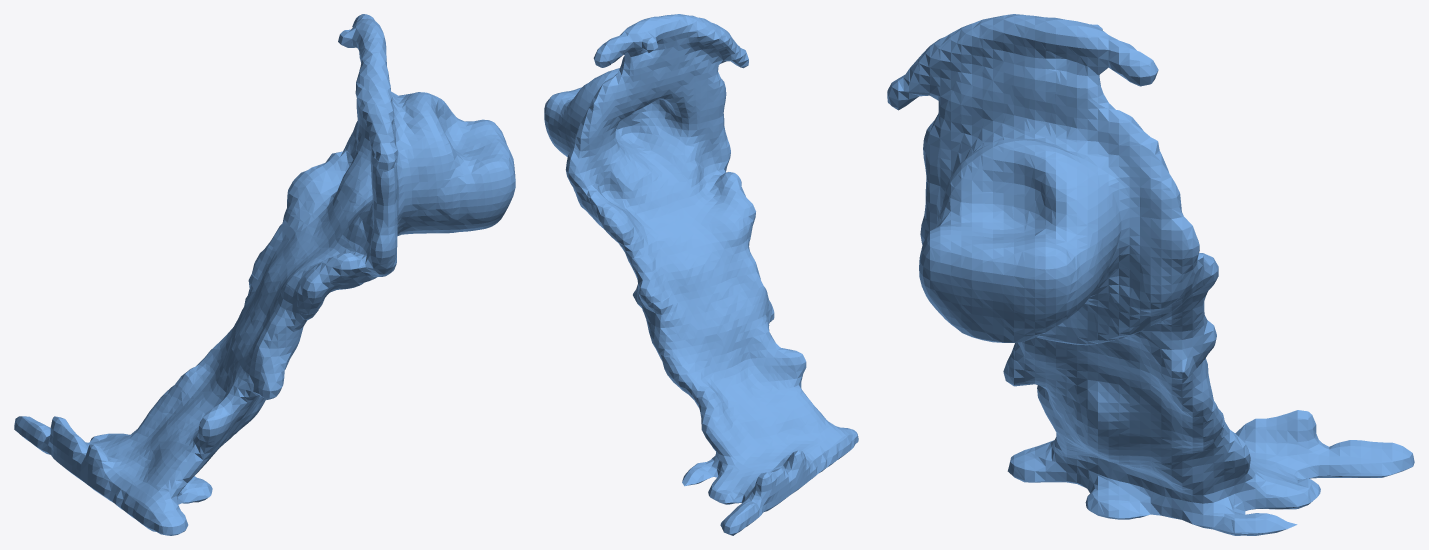
Rendered from water_0035.glb.
3 renders of one model, left to right at view 1: azimuth 30°, elevation 25°; view 2: azimuth 150°, elevation 25°; view 3: azimuth 270°, elevation 25°, orthographic. The views are drawn at different scales.
Visible parts, largest first — view 1: Water_0035; view 2: Water_0035; view 3: Water_0035.
Boxes of the visible parts, x1,y1,x2,y2 form: Water_0035: [14, 14, 515, 535]; Water_0035: [544, 14, 858, 535]; Water_0035: [887, 14, 1414, 535].
Size of the model in its own units: 3.04 by 3.66 by 2.93.
